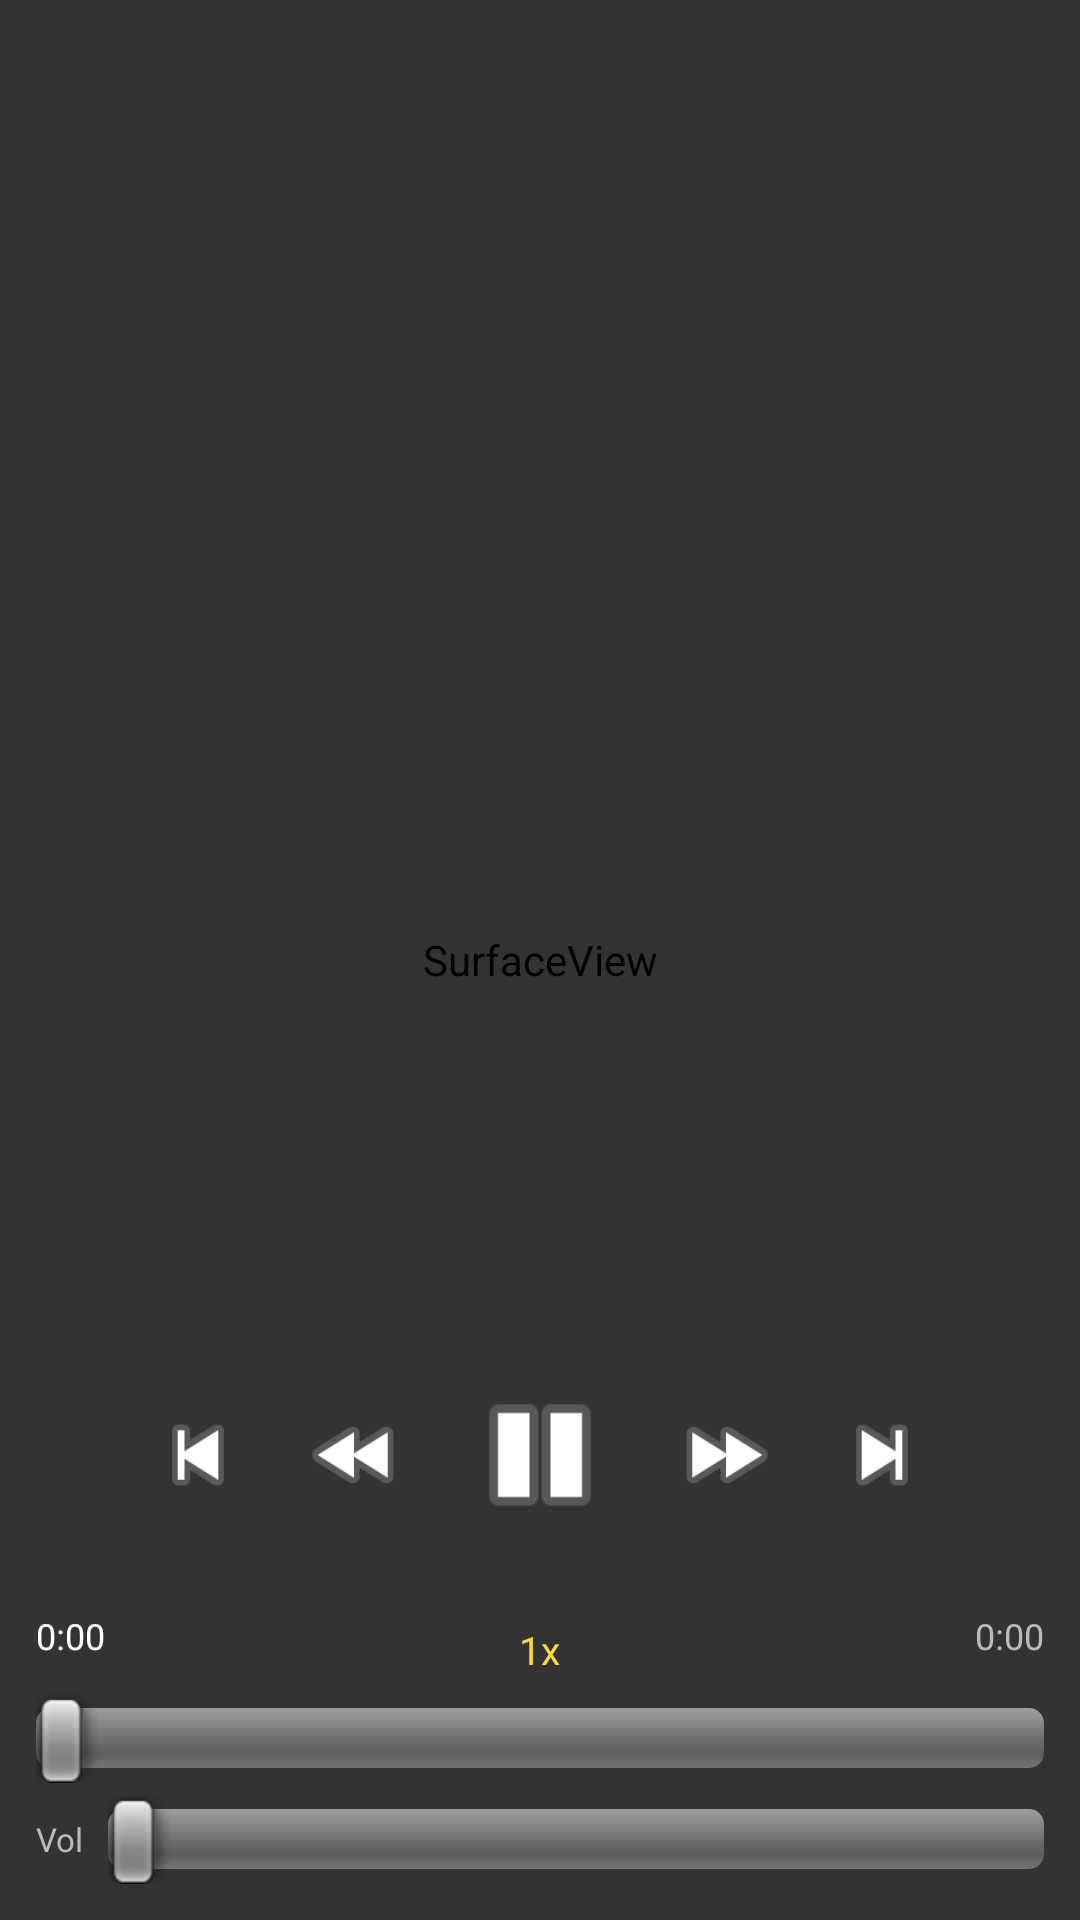

Named icons in this screenshot (1080x1920) and their bounding boxes, (x1, y1, x2, y2):
next: (856, 1425, 908, 1485)
pause: (489, 1404, 590, 1505)
previous: (172, 1425, 224, 1485)
rew: (313, 1427, 393, 1483)
